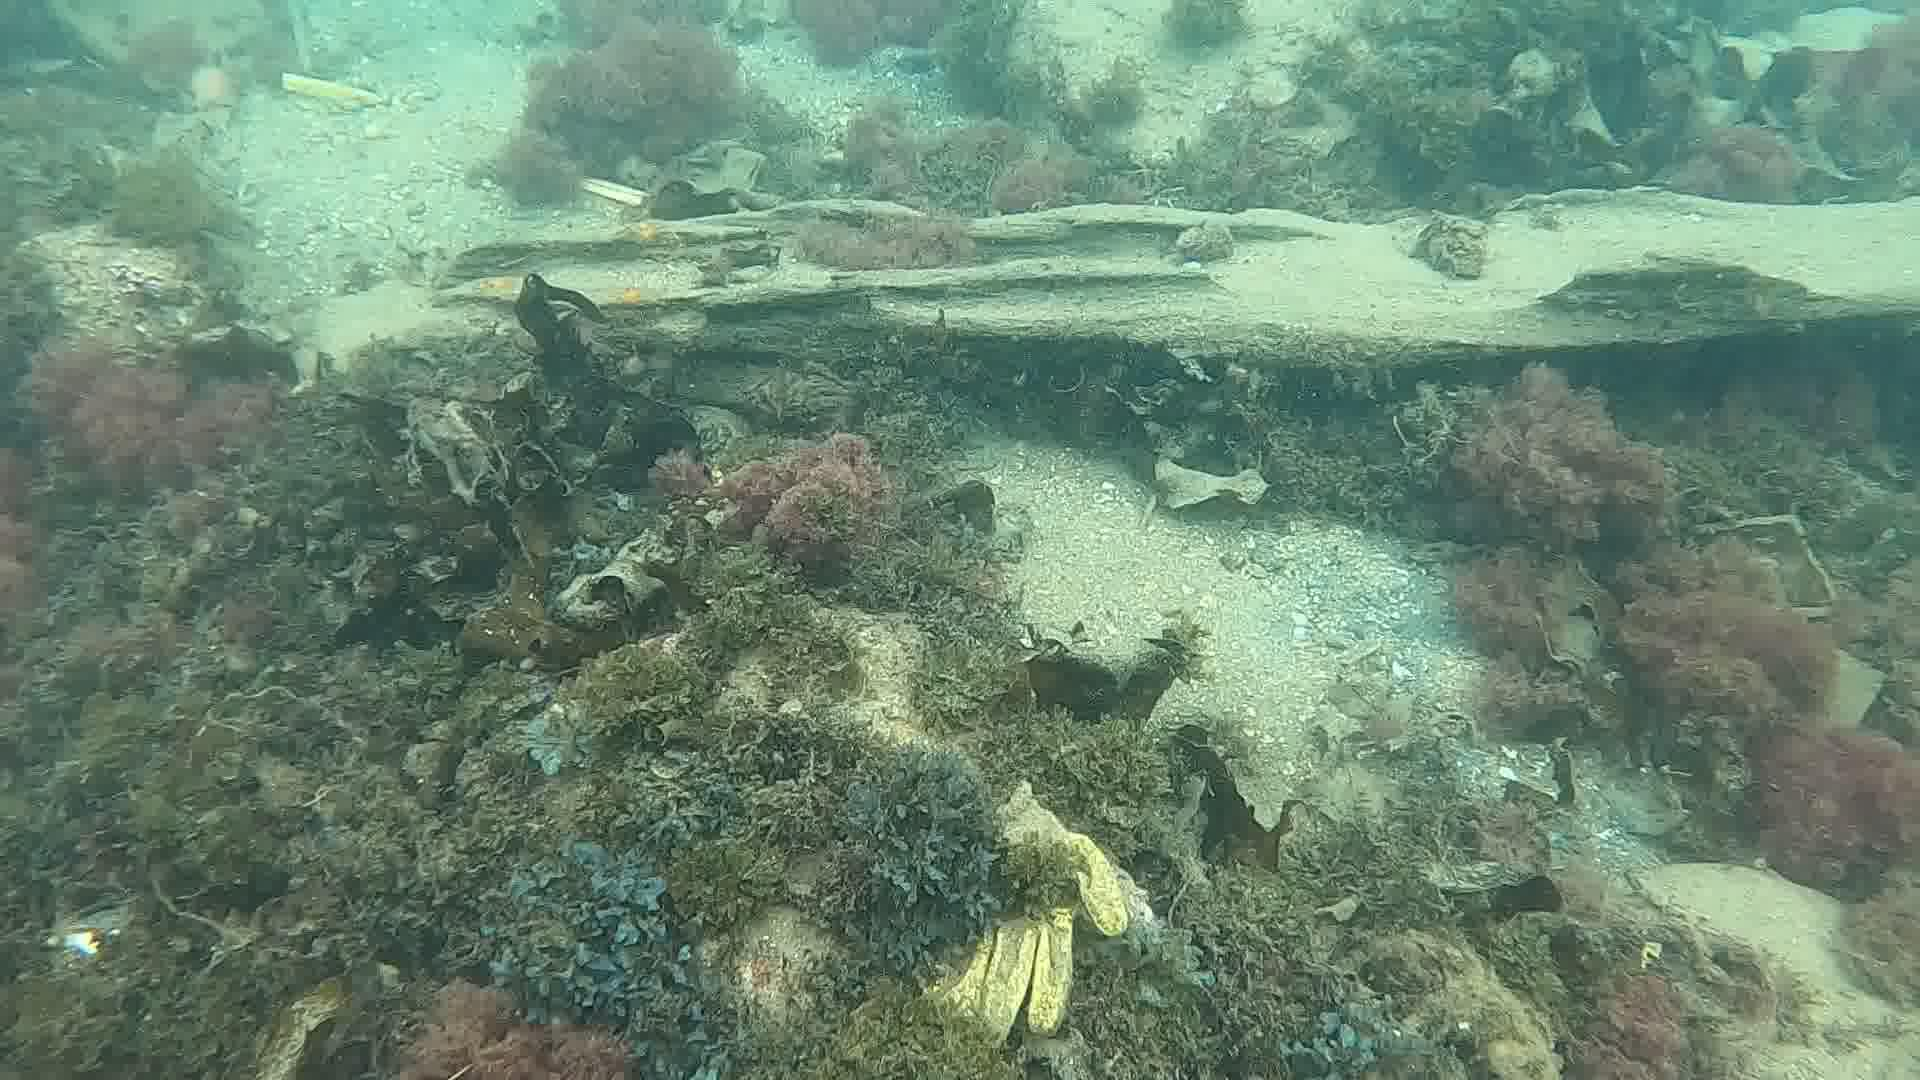wood: (425, 191, 1920, 367)
